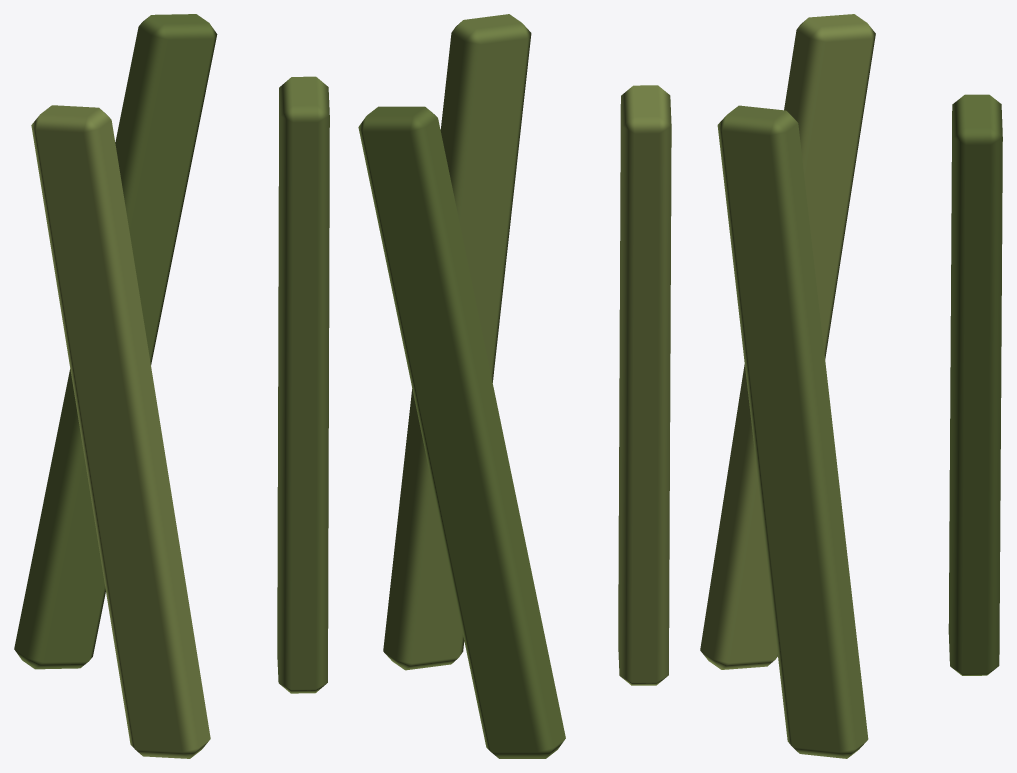
Rendered from reeds.66323300.glb.
The picture shows the model from 3 angles, left to right: view 1: azimuth 30°, elevation 25°; view 2: azimuth 150°, elevation 25°; view 3: azimuth 270°, elevation 25°; orthographic projection.
Parts seen in each view (by area): view 1: body; view 2: body; view 3: body.
Part boxes in pixels (left/top/right/bottom): body: left=14, top=14, right=329, bottom=758; body: left=358, top=14, right=671, bottom=758; body: left=700, top=14, right=1002, bottom=758.
Size of the model in its own units: 0.0671 by 0.1403 by 0.0613.
